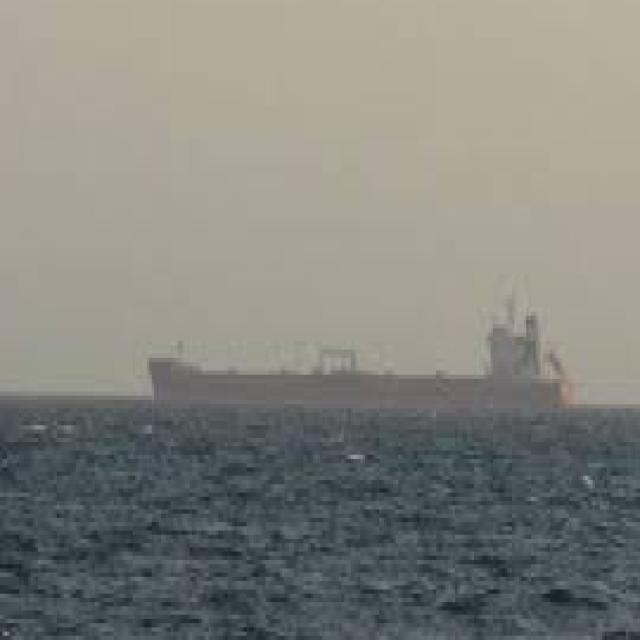cargoship: (140, 287, 574, 415)
